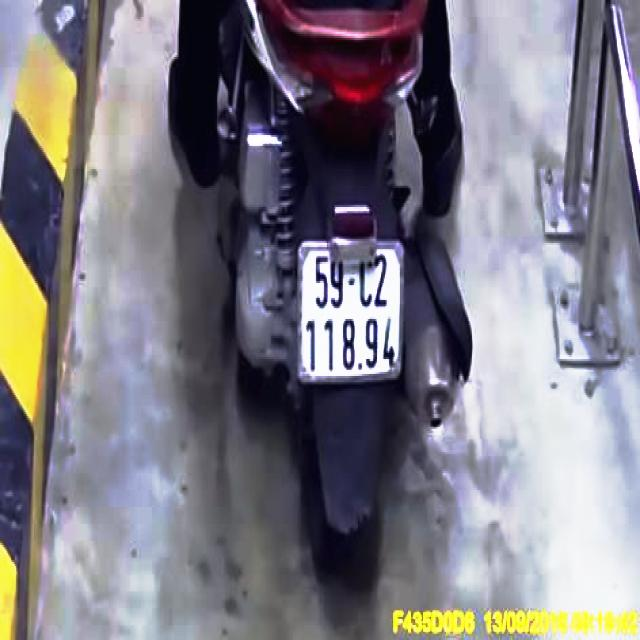license_plate: (300, 240, 405, 382)
